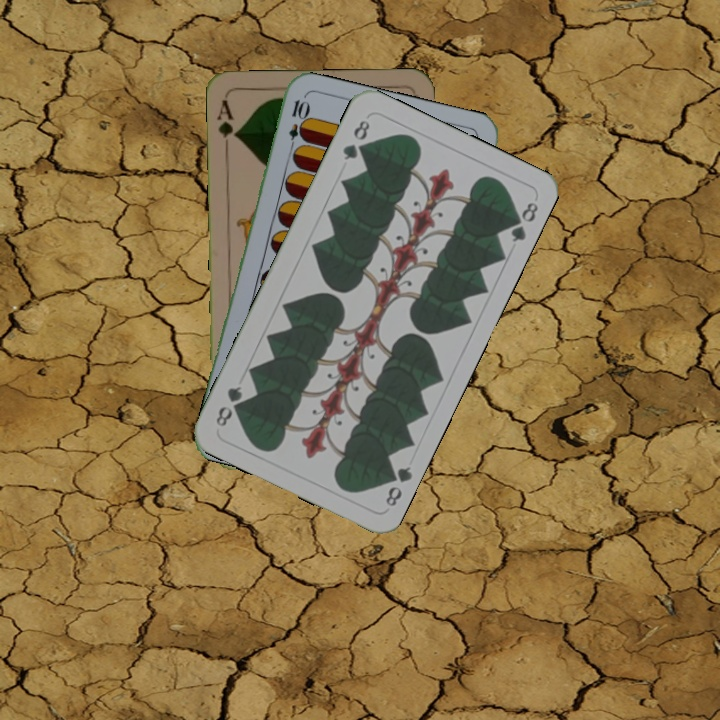E10: (284, 96, 309, 155)
G8: (338, 116, 373, 163), (380, 462, 415, 509)
GA: (213, 96, 241, 155)
